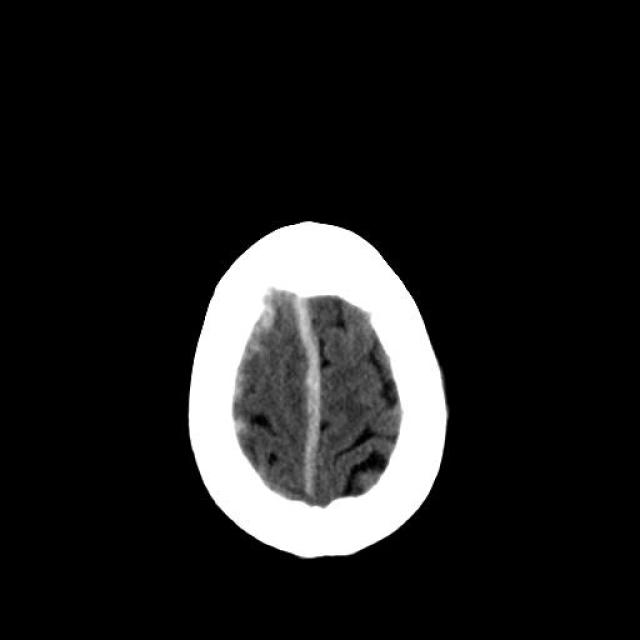Subdural: (268, 284, 382, 501)
